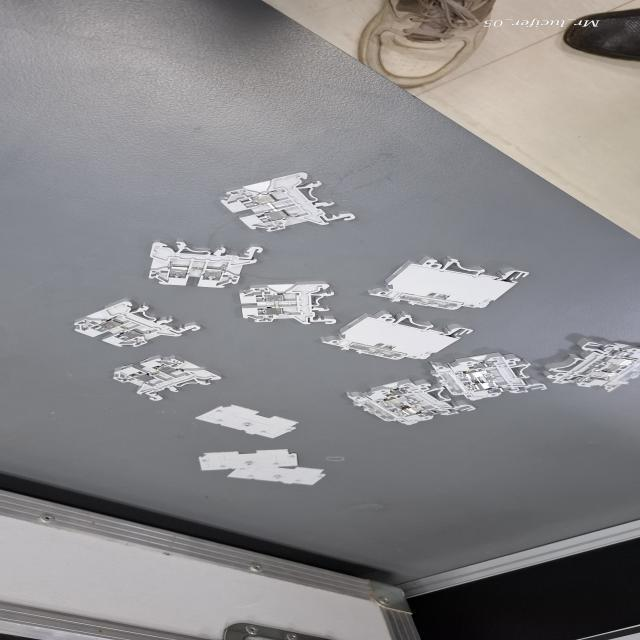Pass: (184, 162, 378, 238), (130, 238, 265, 288), (70, 298, 204, 348), (100, 352, 222, 404), (230, 278, 340, 328)
